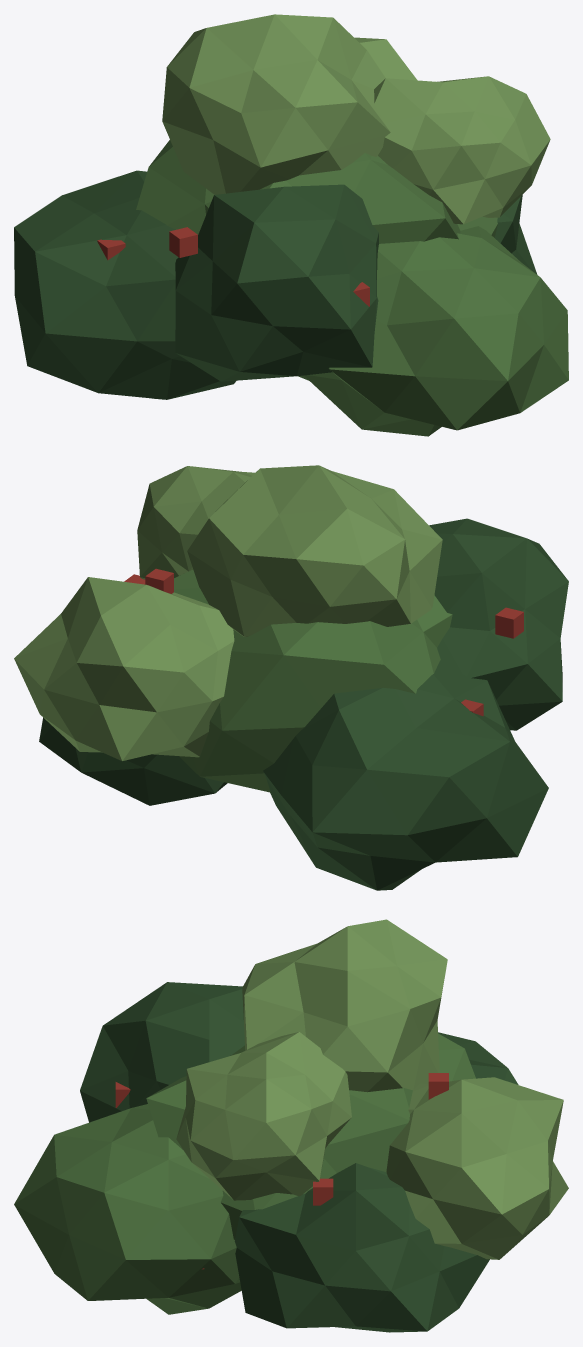
File: bush_01.glb
3 renders of one model, top to bottom at view 1: azimuth 30°, elevation 25°; view 2: azimuth 150°, elevation 25°; view 3: azimuth 270°, elevation 25°, orthographic. The views are drawn at different scales.
Parts seen in each view (by area): view 1: bush_01; view 2: bush_01; view 3: bush_01.
Boxes of the visible parts, box(x1,y1,x2,y2) form: bush_01: box(14, 14, 568, 436); bush_01: box(14, 465, 568, 890); bush_01: box(14, 919, 568, 1332).
Size of the model in its own units: 1.31 by 0.9981 by 1.36.
1 material, 1 textured.
